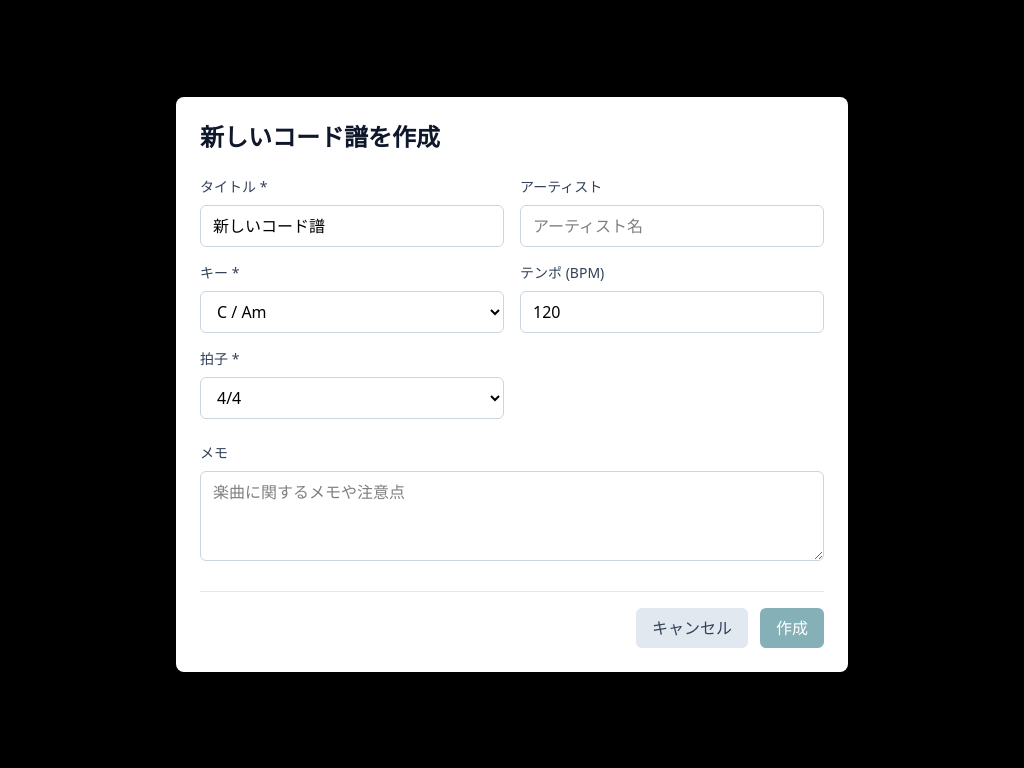
ChordChartForm › Form Validation › should clear errors when user starts typing
Trigger validation error
Step 1. Clear the field labelled "タイトル *" → [352, 226], box [200,204,504,246]
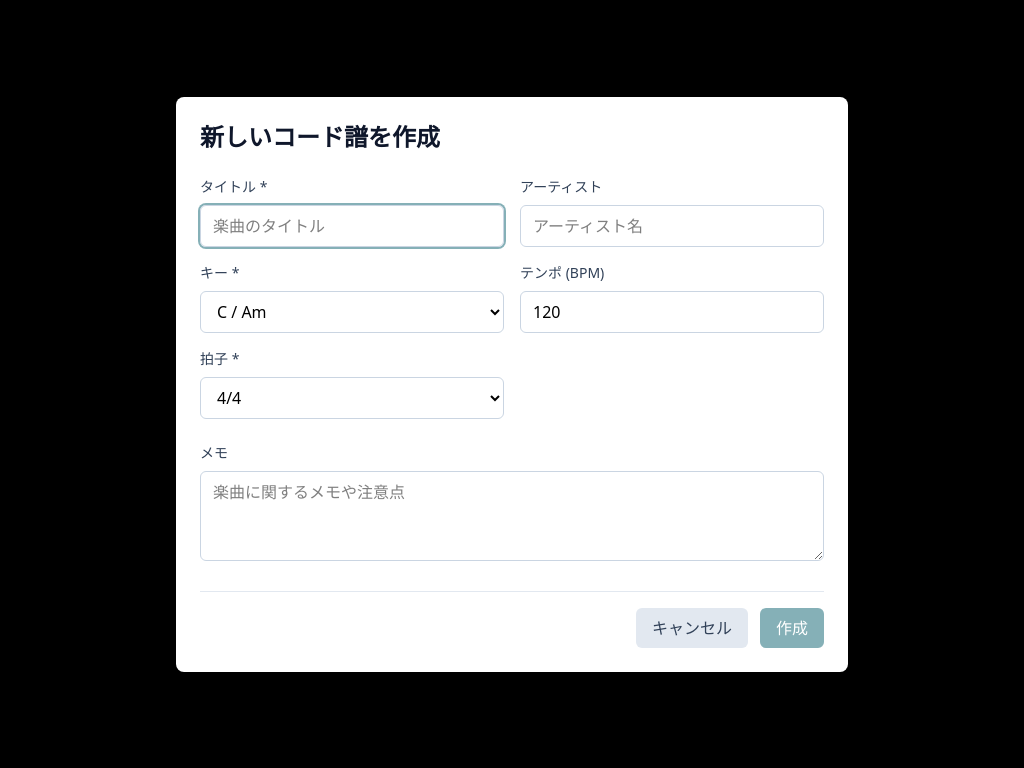
Step 2. Click the button "作成" → [792, 628], box [760,608,824,648]
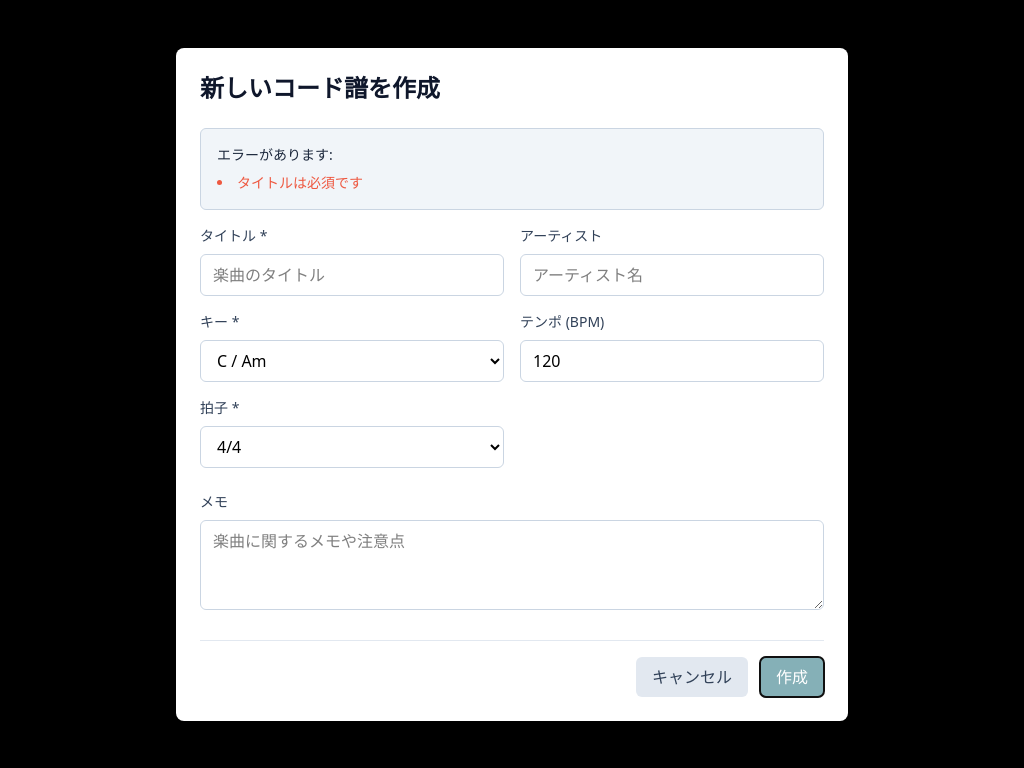
Expected: the list item "タイトルは必須です" is shown, [237,172,363,192]
Start typing to clear errors
Step 3. Type "New Title" into the field labelled "タイトル *" → [352, 274], box [200,254,504,296]
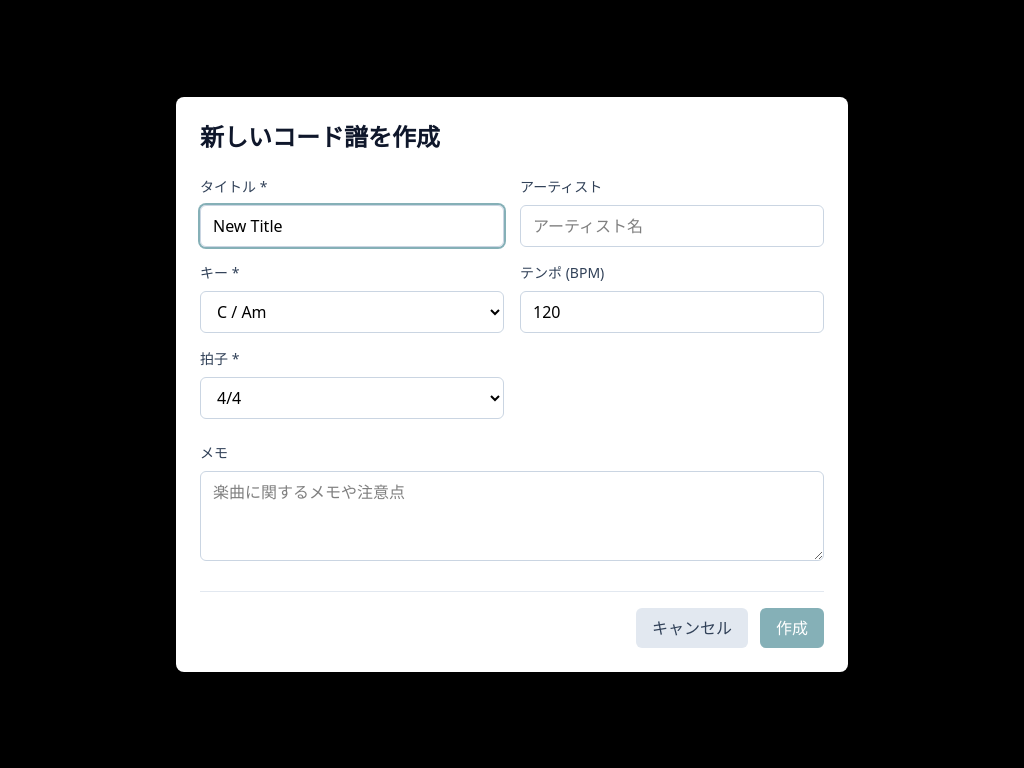
Expected: the heading "エラーがあります:" is gone
